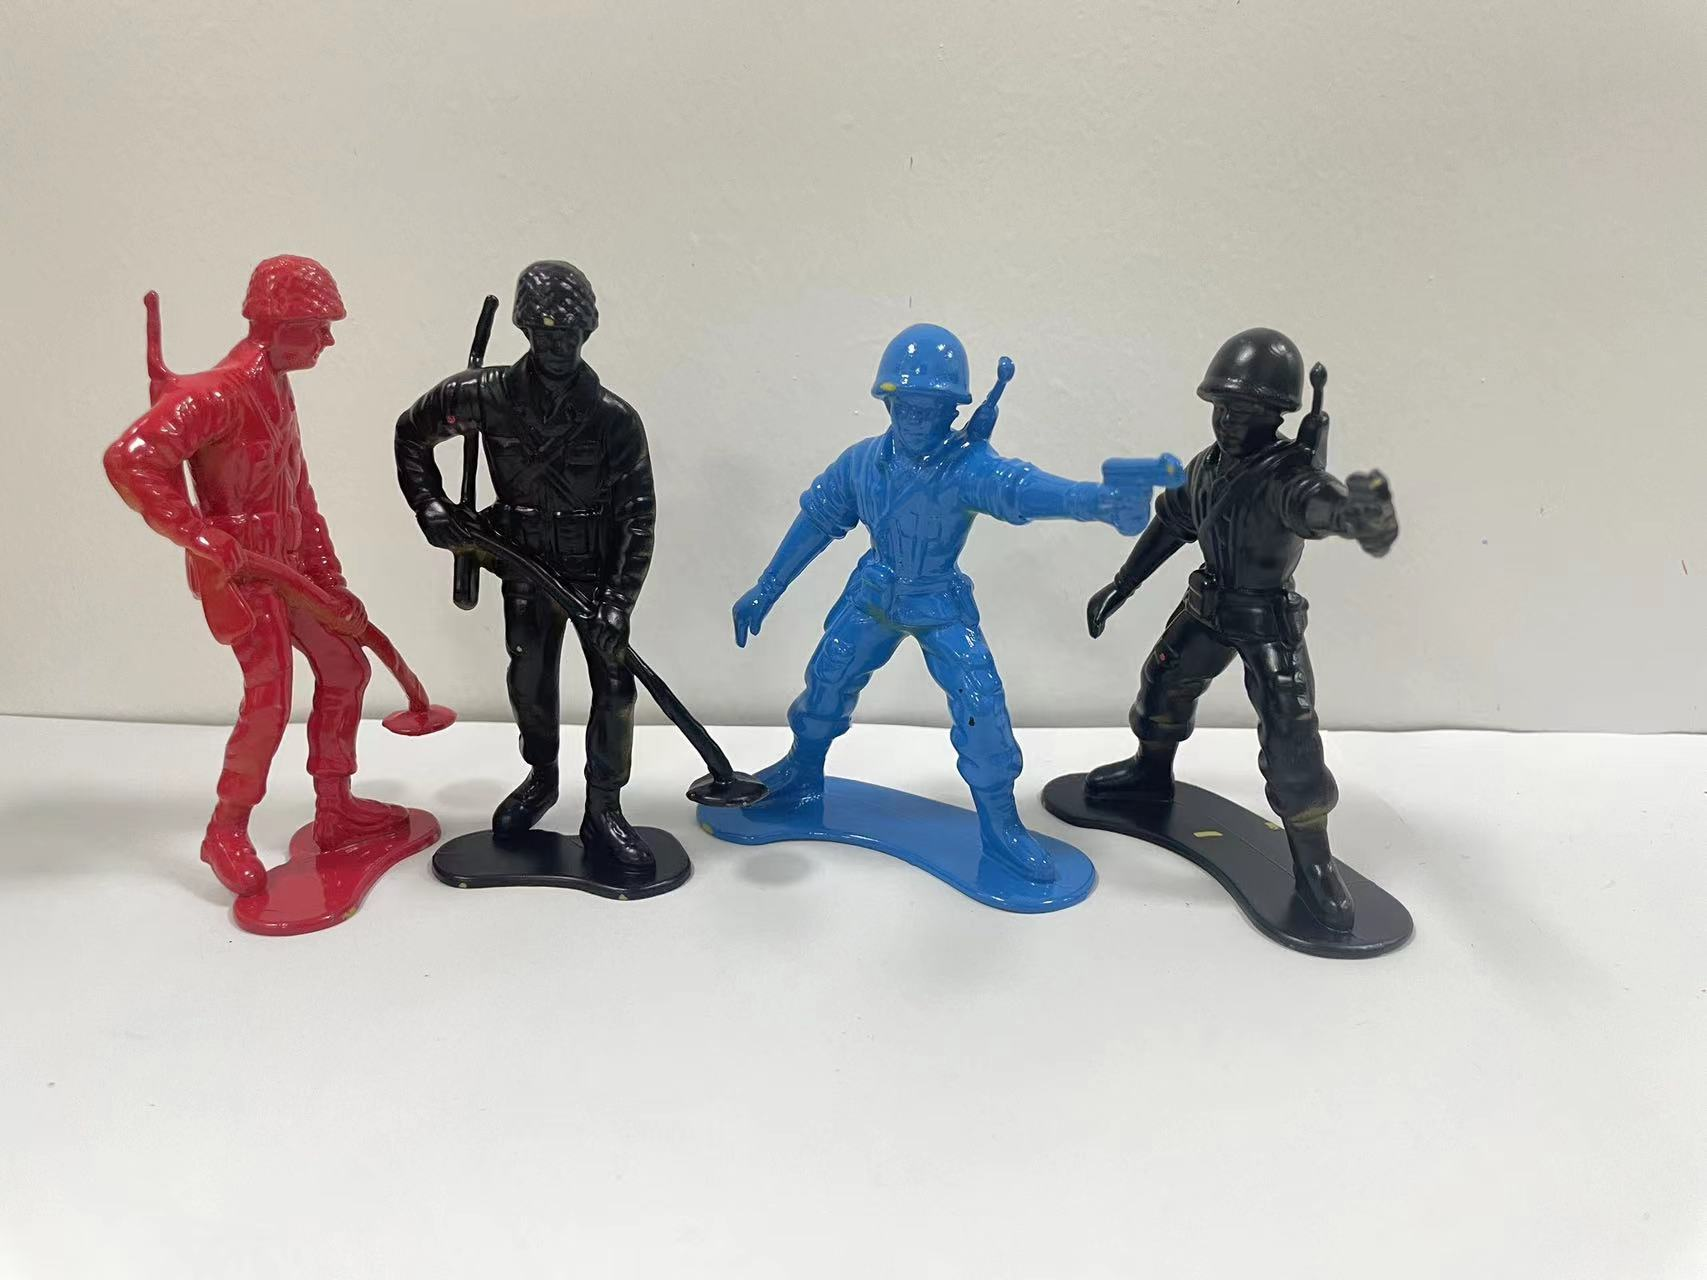black: (1125, 311, 1485, 1043), (413, 233, 715, 969)
blue: (706, 255, 1104, 969)
red: (58, 177, 421, 1023)
